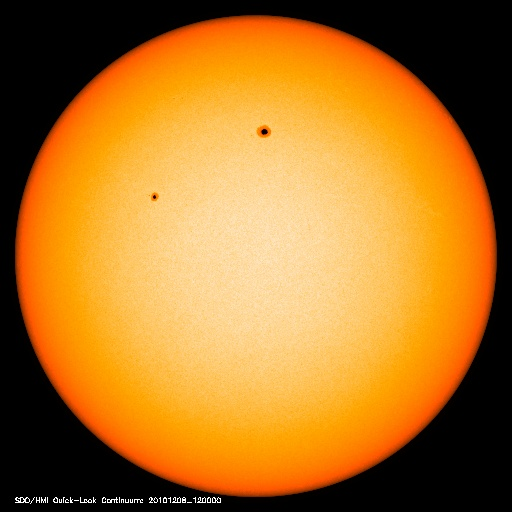sunspot: (247, 117, 285, 145), (141, 183, 167, 209)
